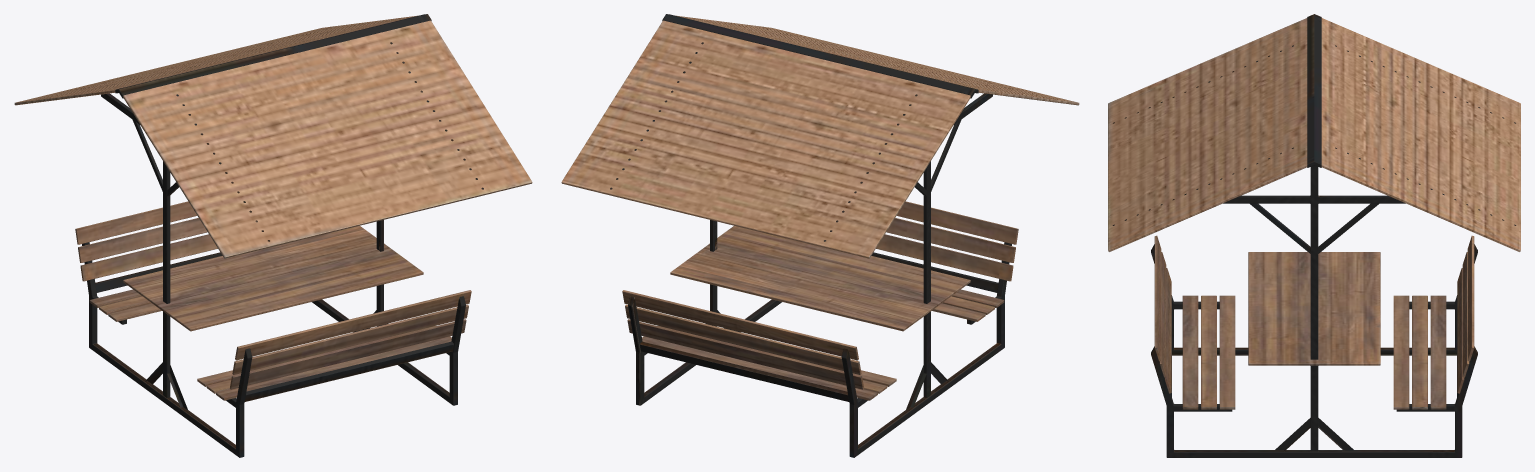
The model's file is yard_shelter.glb.
The picture shows the model from 3 angles, left to right: view 1: azimuth 30°, elevation 25°; view 2: azimuth 150°, elevation 25°; view 3: azimuth 270°, elevation 25°; orthographic projection. The views are drawn at different scales.
Parts seen in each view (by area): view 1: yard_shelter; view 2: yard_shelter; view 3: yard_shelter.
Boxes of the visible parts, box(x1,y1,x2,y2) form: yard_shelter: box(14, 14, 532, 457); yard_shelter: box(561, 14, 1079, 457); yard_shelter: box(1108, 14, 1520, 457).
Bounding box in the file's own units: 2.89 × 2.9 × 3.41.
Materials: 1 (1 with a texture image).
